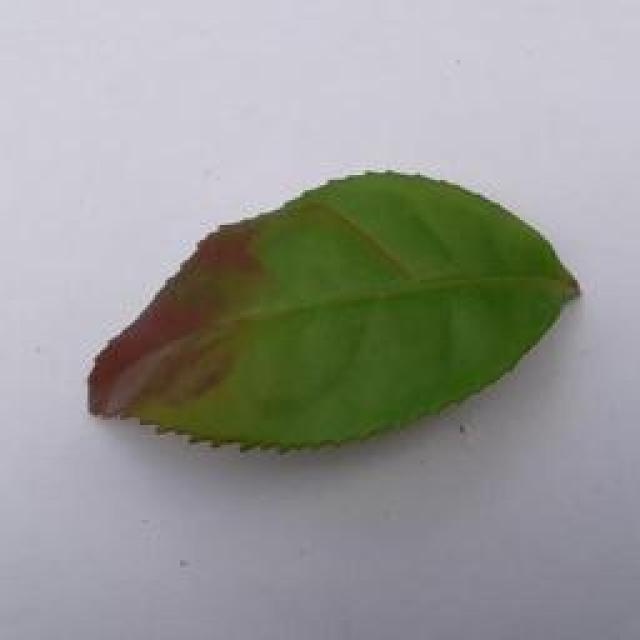Red Leaf Spot: (72, 156, 592, 462)
